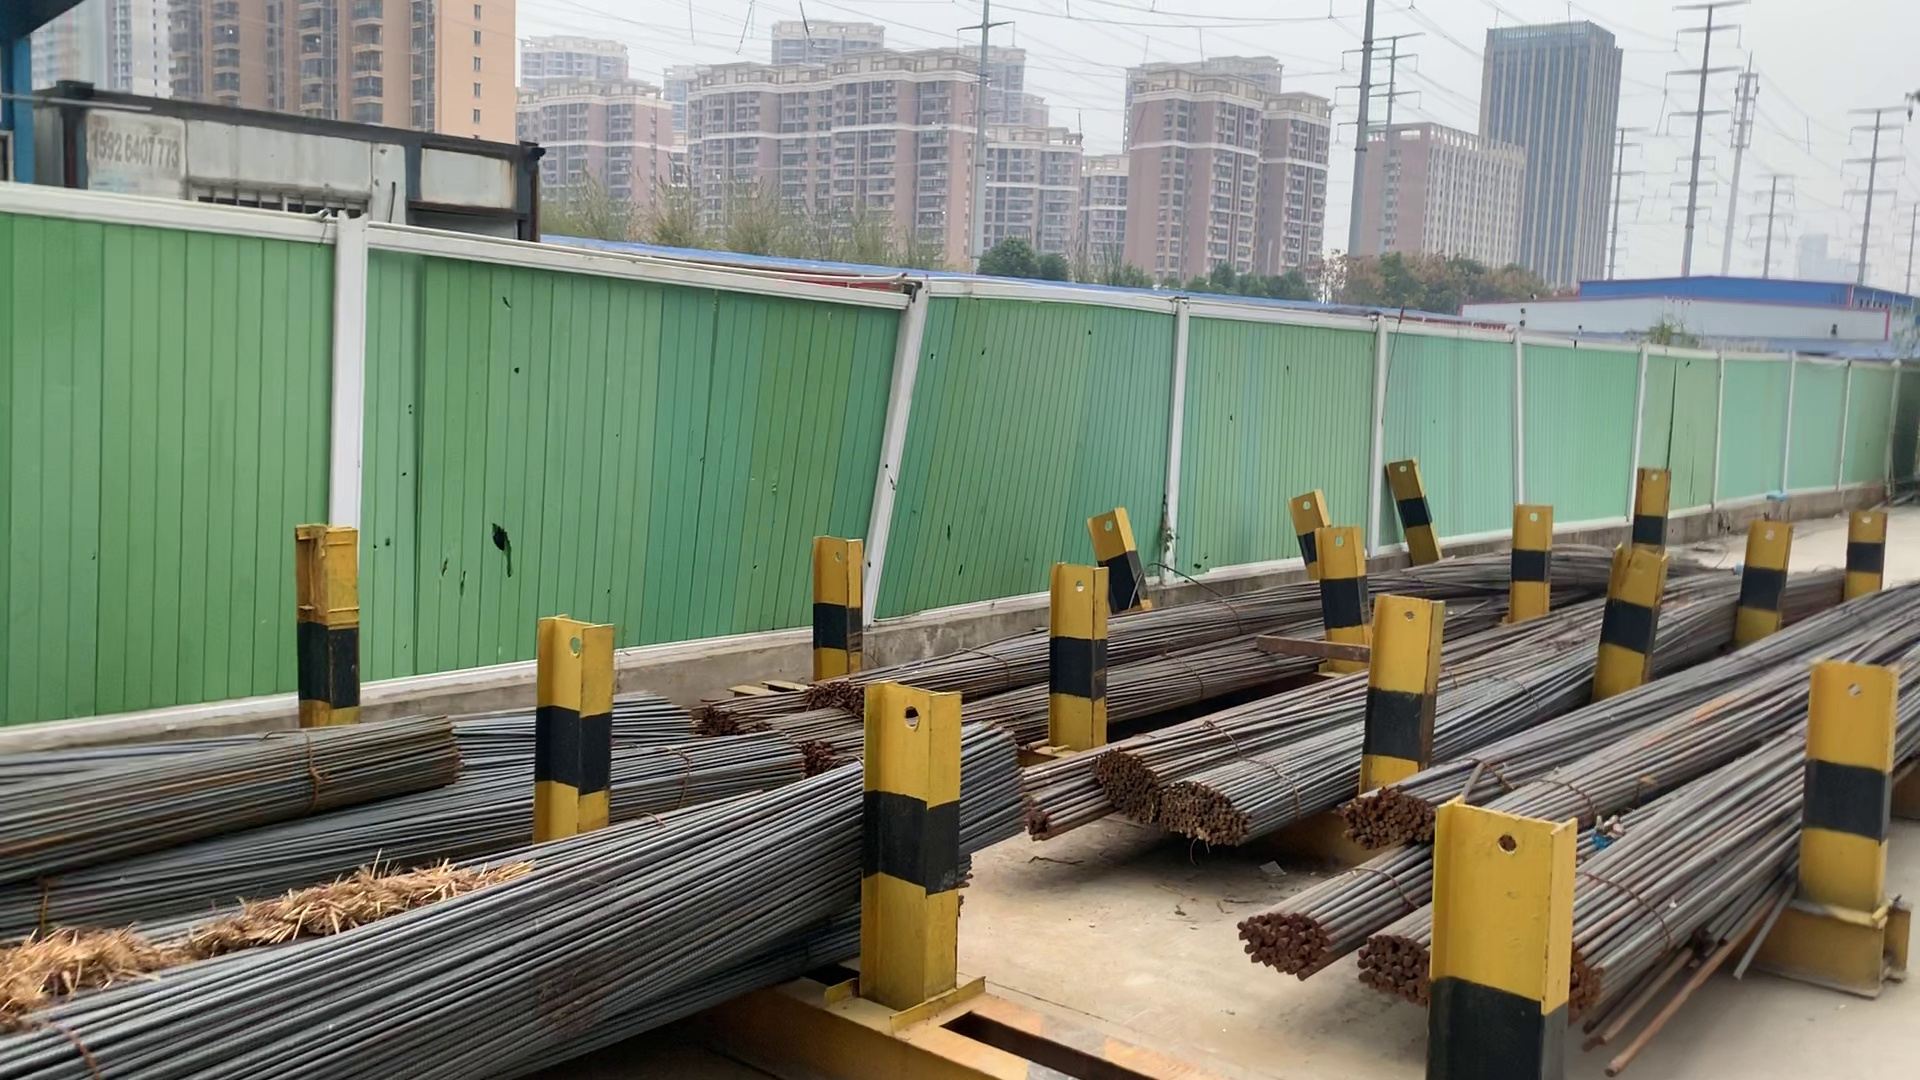rebar: (1237, 903, 1333, 980), (1573, 949, 1633, 1062), (1338, 787, 1441, 845), (1160, 787, 1253, 847), (1354, 934, 1431, 1000), (1091, 750, 1156, 825), (804, 680, 869, 715), (1022, 777, 1058, 837), (691, 698, 738, 735)
